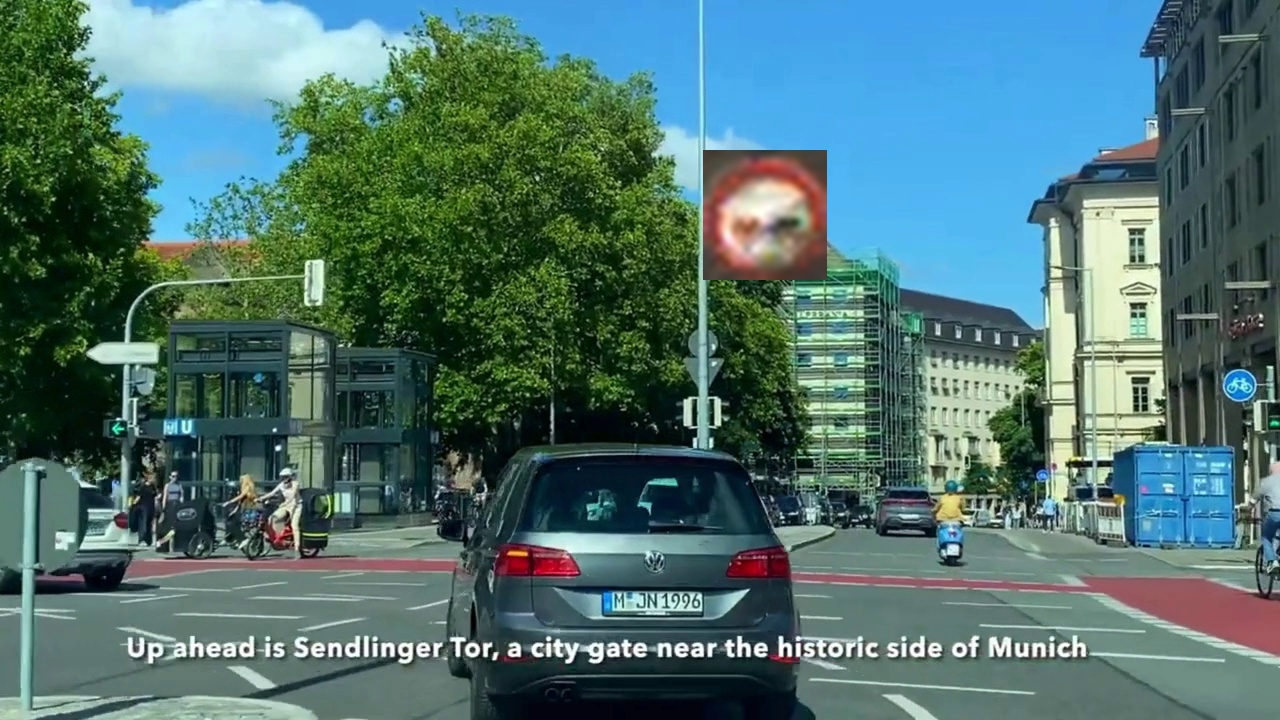No passing: (703, 150, 827, 280)
